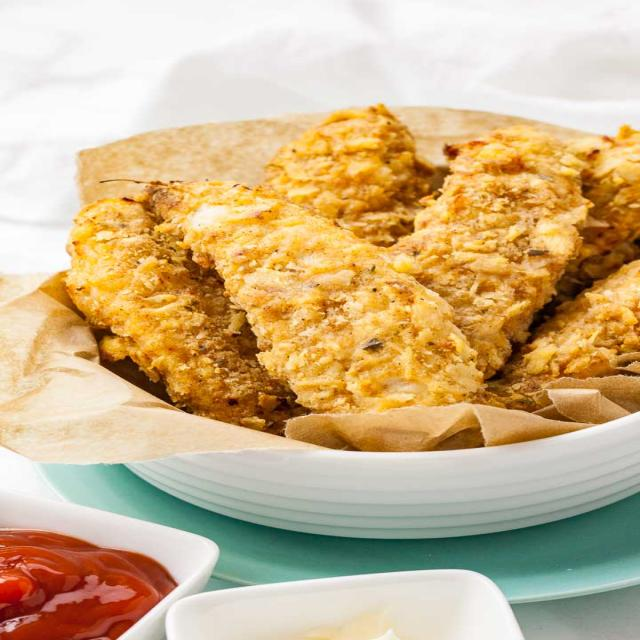Frango: (65, 106, 640, 448)
